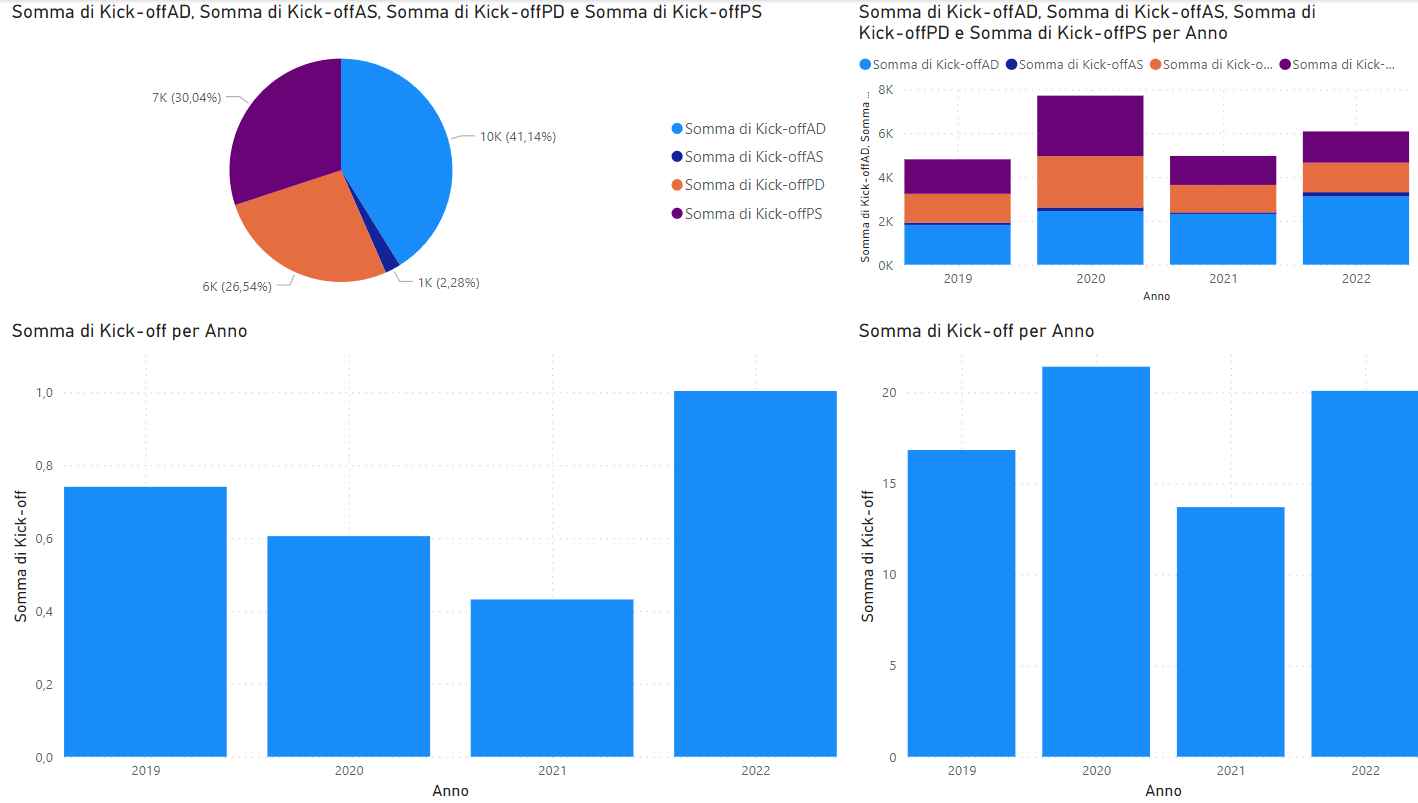

The page's visual inventory and layout, read from the dashboard file:
{"tool":"powerbi","page":{"name":"Kick off","canvas":[1280,720],"ordinal":3},"visuals":[{"type":"pieChart","fields":{"Y":["Sum(Informazioni_generali.Kick-offAD)","Sum(Informazioni_generali.Kick-offAS)","Sum(Informazioni_generali.Kick-offPD)","Sum(Informazioni_generali.Kick-offPS)"]},"box":[9.5,0,749,285.6],"z":0},{"type":"columnChart","fields":{"Category":["Informazioni_generali.Anno.Variazione.Gerarchia data.Anno","Informazioni_generali.Anno.Variazione.Gerarchia data.Trimestre","Informazioni_generali.Anno.Variazione.Gerarchia data.Mese","Informazioni_generali.Anno.Variazione.Gerarchia data.Giorno"],"Y":["Sum(Informazioni_generali.Kick-offAD)","Sum(Informazioni_generali.Kick-offAS)","Sum(Informazioni_generali.Kick-offPD)","Sum(Informazioni_generali.Kick-offPS)"]},"box":[768,0,502.5,276.1],"z":1000},{"type":"columnChart","fields":{"Category":["Informazioni_per_animale_univoc.Anno.Variazione.Gerarchia data.Anno","Informazioni_per_animale_univoc.Anno.Variazione.Gerarchia data.Trimestre","Informazioni_per_animale_univoc.Anno.Variazione.Gerarchia data.Mese","Informazioni_per_animale_univoc.Anno.Variazione.Gerarchia data.Giorno"],"Y":["Sum(Informazioni_per_animale_univoc.Kick-off)"]},"box":[768,285.6,512,435],"z":2000},{"type":"columnChart","fields":{"Category":["Informazioni_per_animale_totali.Anno.Variazione.Gerarchia data.Anno","Informazioni_per_animale_totali.Anno.Variazione.Gerarchia data.Trimestre","Informazioni_per_animale_totali.Anno.Variazione.Gerarchia data.Mese","Informazioni_per_animale_totali.Anno.Variazione.Gerarchia data.Giorno"],"Y":["Sum(Informazioni_per_animale_totali.Kick-off)"]},"box":[9.5,285.6,749,435],"z":3000}]}

Visuals, with their boxes in screenshot pixels (x1, y1, x2, y2), scaled from the page's 1280x720 canvas onto the 1418x803 screenshot:
pieChart - Sum(Informazioni_generali.Kick-offAD) x Sum(Informazioni_generali.Kick-offAS): crop(11, 0, 840, 319)
columnChart - Informazioni_generali.Anno.Variazione.Gerarchia data.Anno x Informazioni_generali.Anno.Variazione.Gerarchia data.Trimestre: crop(851, 0, 1407, 308)
columnChart - Informazioni_per_animale_univoc.Anno.Variazione.Gerarchia data.Anno x Informazioni_per_animale_univoc.Anno.Variazione.Gerarchia data.Trimestre: crop(851, 319, 1417, 802)
columnChart - Informazioni_per_animale_totali.Anno.Variazione.Gerarchia data.Anno x Informazioni_per_animale_totali.Anno.Variazione.Gerarchia data.Trimestre: crop(11, 319, 840, 802)
